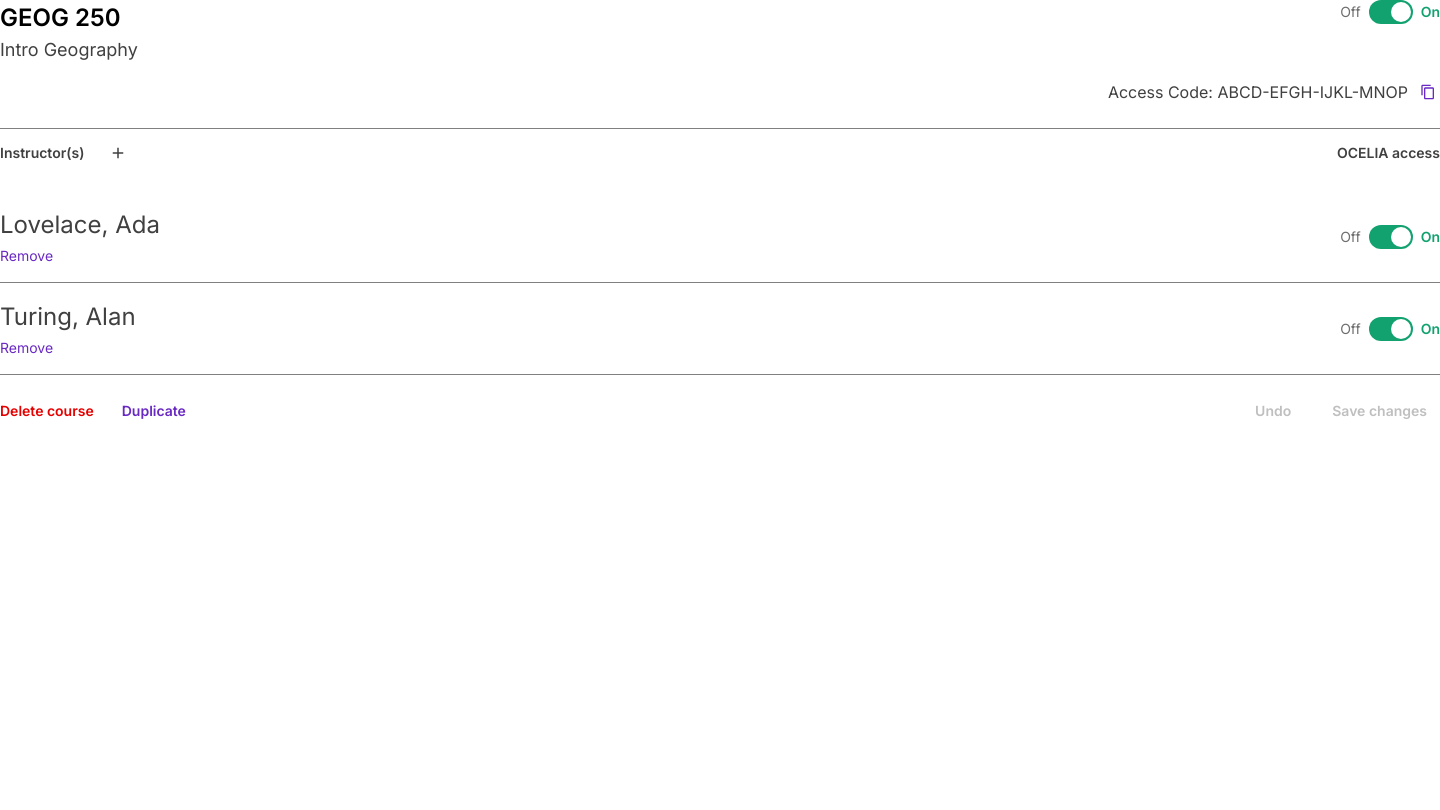
Test: CourseDetail (staged editing) › tells the picker when every instructor is already assigned
This screenshot has width=1440, height=810.
Click the button named "Add instructor".
click(118, 153)  # box x1=104 y1=139 x2=132 y2=167
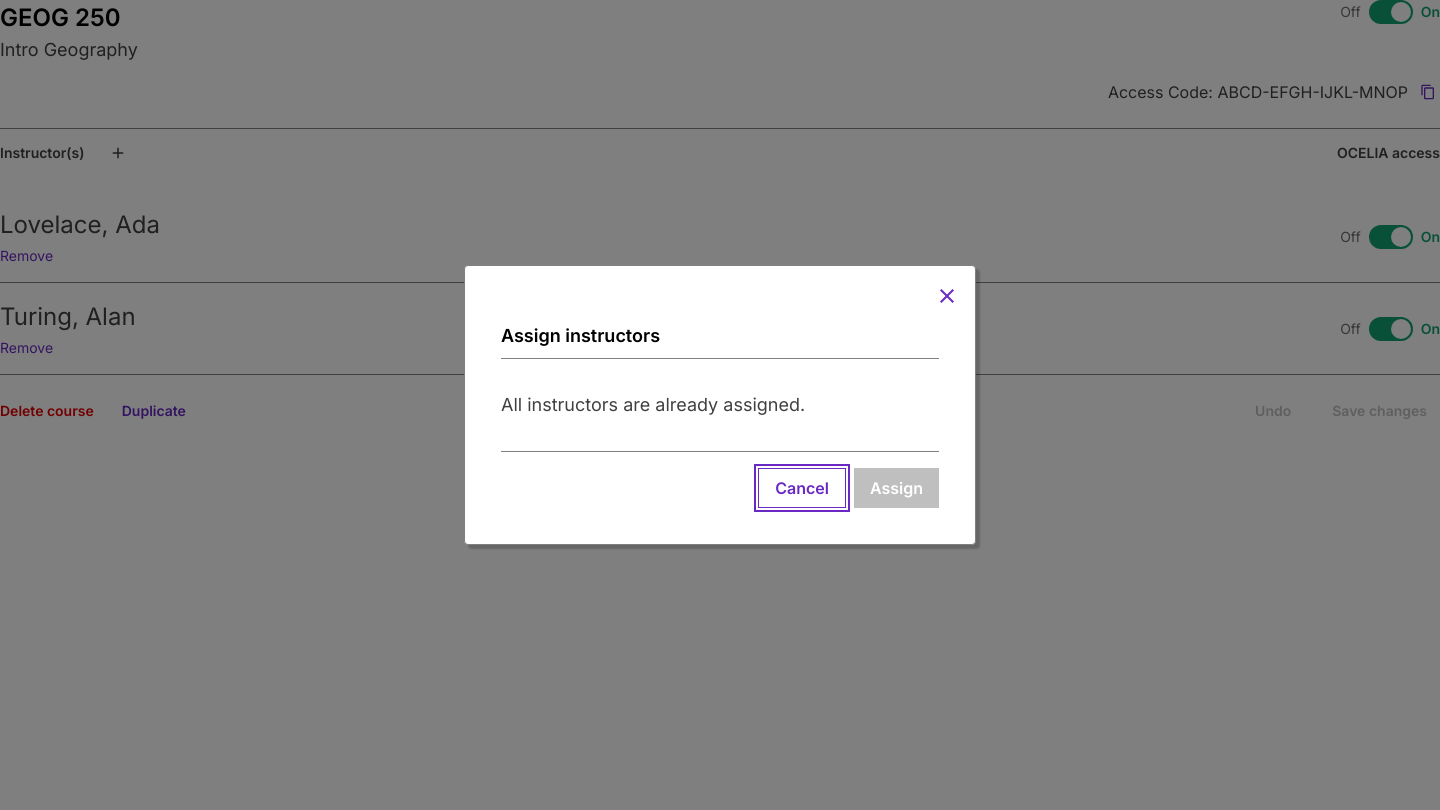
expect the text "All instructors are already assigned." is shown: met, box x1=501 y1=394 x2=805 y2=415
